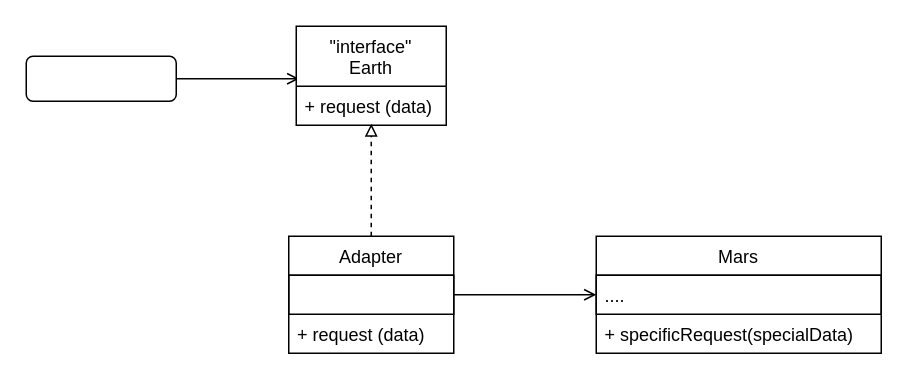
Some shapes in this 908 by 384 pixel diagram are drawn without their labels. Here are the shapes that lost their labels. From the top down, the centre of each, then its label:
point 100,78: Client
point 370,294: - mars: Mars
